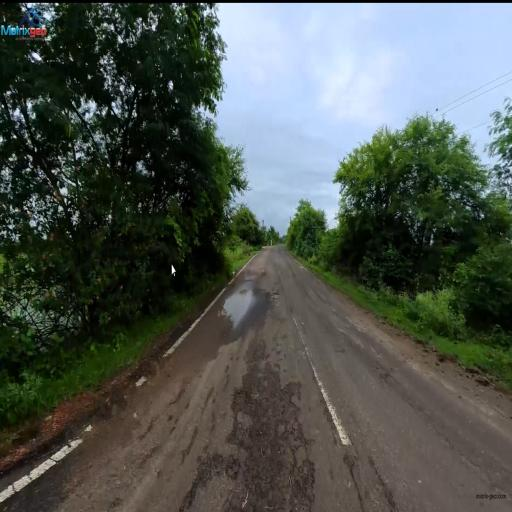longitudinal_crack: (339, 449, 400, 500)
ravelling: (235, 354, 304, 497)
